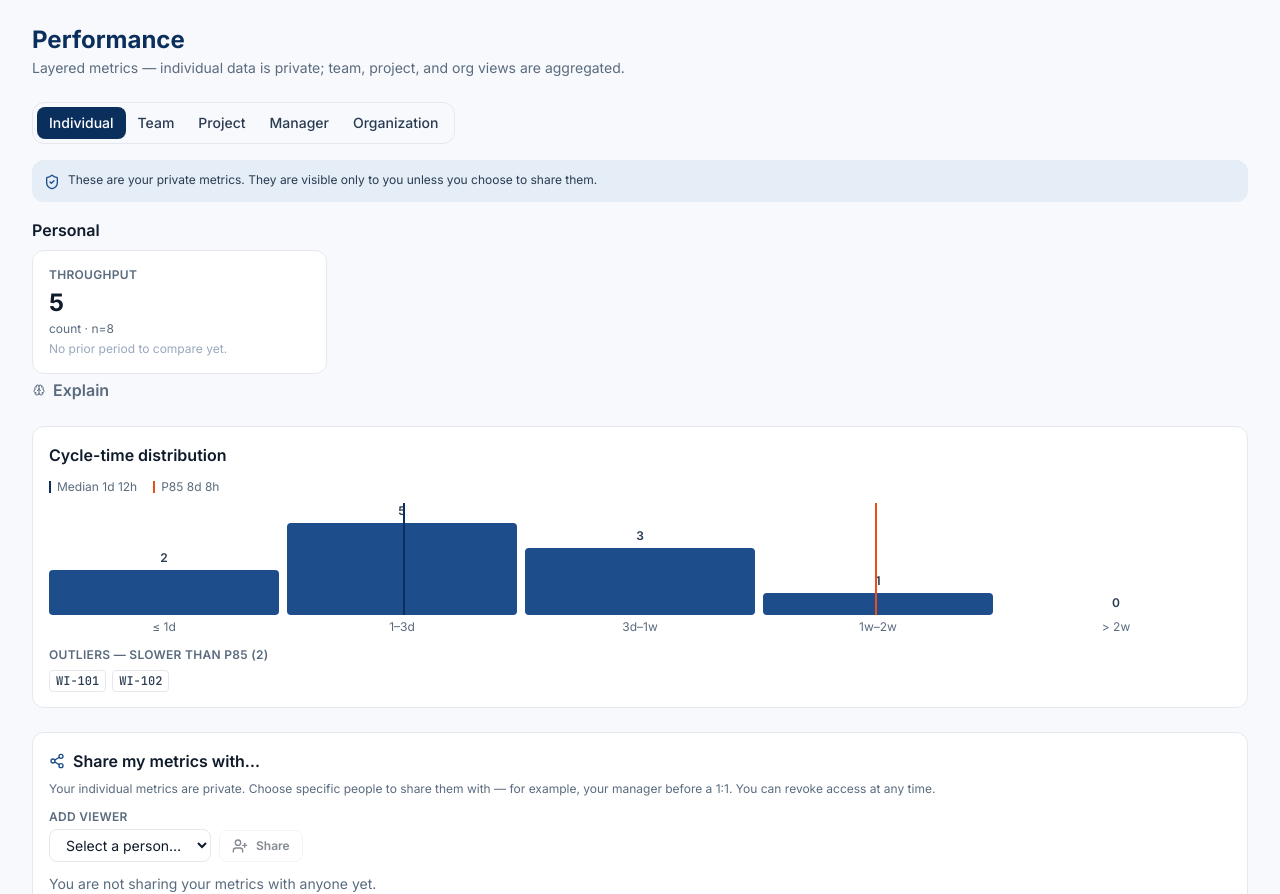
Test: PerformancePanel › shows the explicit AI-off note when an anomaly explanation falls back
This screenshot has width=1280, height=894.
Click the button with aria-label "Explain Throughput anomaly". click: click(71, 390)
box: [32, 381, 110, 399]
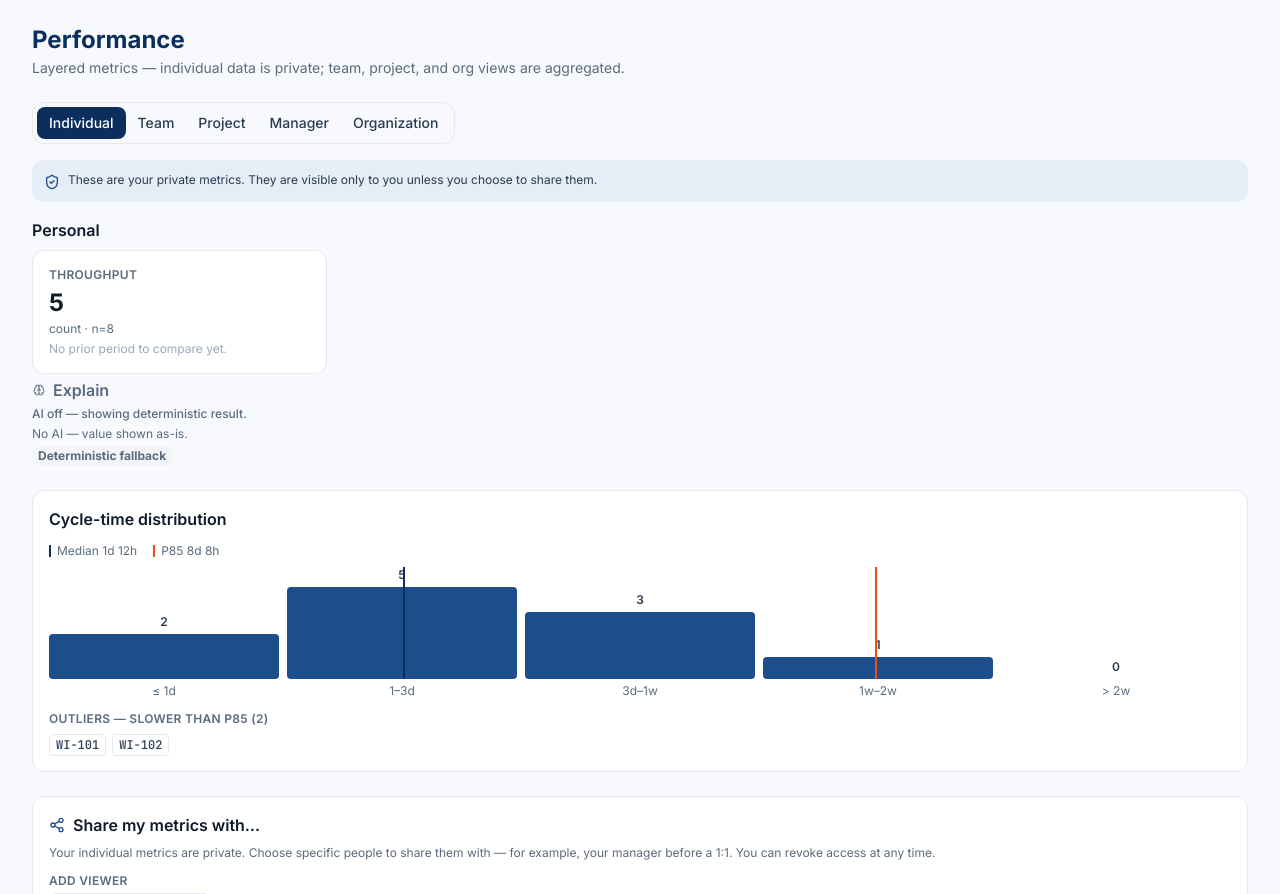
Now the text "AI off — showing deterministic result." is shown, box [32, 406, 247, 421]
Now the text "Deterministic fallback" is shown, box [32, 446, 172, 466]
